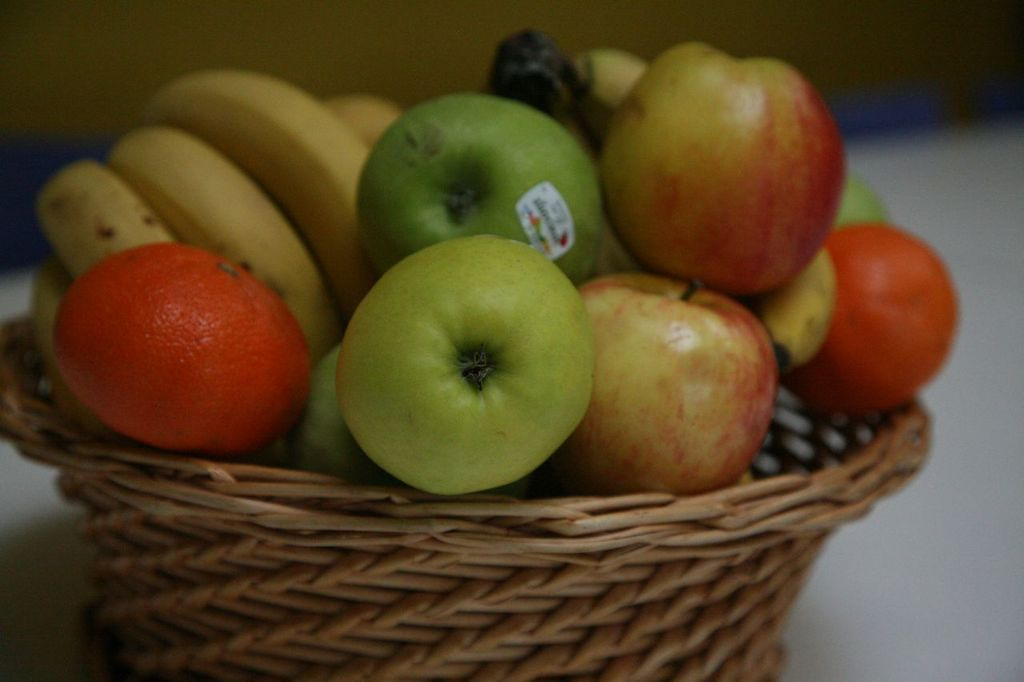Apple: (343, 232, 615, 499), (603, 37, 863, 297), (355, 90, 625, 285), (578, 275, 794, 490)
